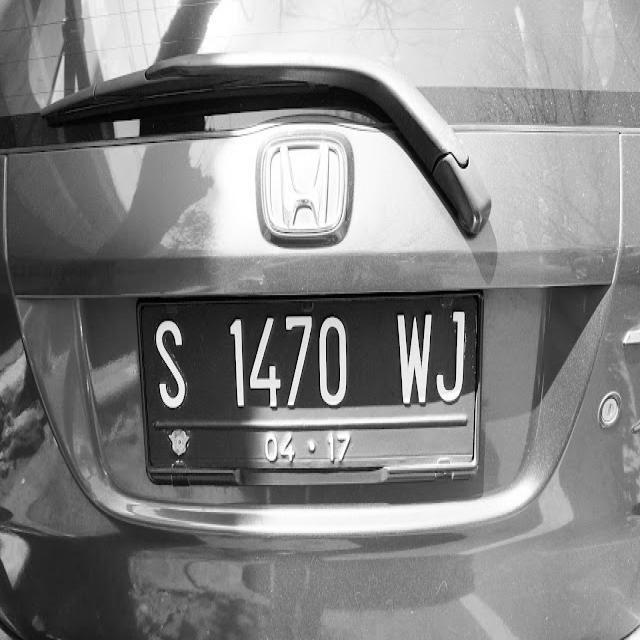0: (313, 313, 351, 411)
1: (225, 312, 248, 411)
4: (247, 314, 282, 411)
7: (284, 314, 314, 411)
J: (438, 309, 468, 410)
S: (149, 319, 197, 416)
W: (392, 308, 436, 406)
